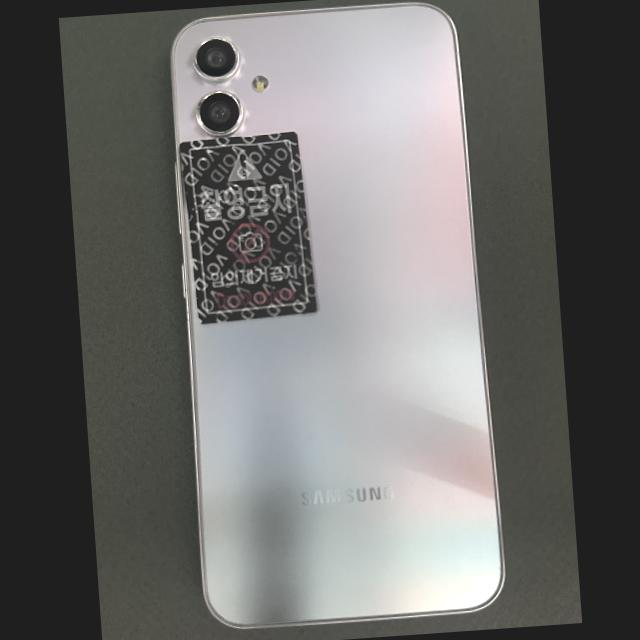lens: (193, 35, 241, 81), (196, 91, 244, 135)
phone: (172, 4, 504, 627)
sticker: (179, 130, 317, 324)
